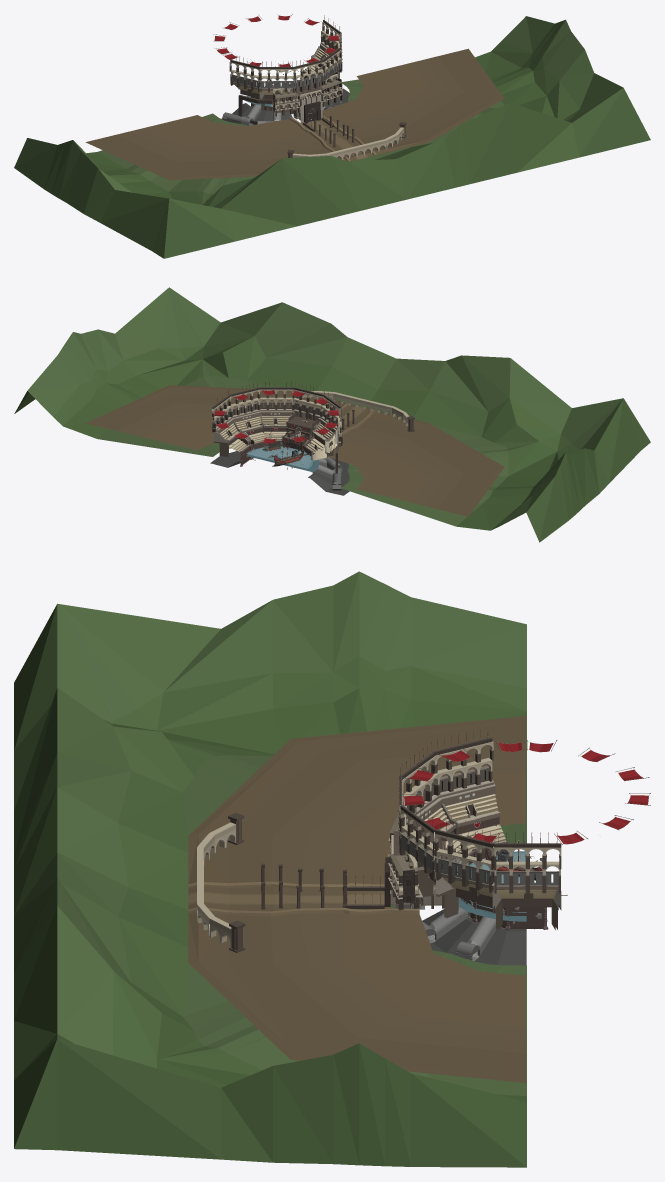
Rendered from narrowArenaAlt.glb.
The picture shows the model from 3 angles, top to bottom: view 1: azimuth 30°, elevation 25°; view 2: azimuth 150°, elevation 25°; view 3: azimuth 270°, elevation 25°; orthographic projection. The views are drawn at different scales.
Visible parts, largest first — view 1: Plane.1023, floor.002, outerDecoration.452, Plane.5452; view 2: Plane.1023, floor.002, Plane.5452, water, Plane.5730, outerDecoration.452, Plane.979, Plane.980; view 3: Plane.1023, floor.002, Plane.5452, Plane.982, outerDecoration.452, Plane.5730.
Boxes of the visible parts, x1,y1,x2,y2 form: Plane.1023: (14,16,650,258); floor.002: (85,48,504,180); outerDecoration.452: (292,127,404,157); Plane.5452: (221,88,349,124); Plane.1023: (14,287,650,542); floor.002: (85,385,504,516); Plane.5452: (210,451,349,495); water: (246,446,313,468); Plane.5730: (216,411,337,443); outerDecoration.452: (302,391,409,421); Plane.979: (260,409,292,427); Plane.980: (232,409,262,432); Plane.1023: (14,571,526,1167); floor.002: (188,716,526,1082); Plane.5452: (395,905,526,965); Plane.982: (439,780,500,827); outerDecoration.452: (197,822,235,934); Plane.5730: (404,783,558,891).
Size of what is drawn, in the model's own units: 432 by 59.88 by 231.
